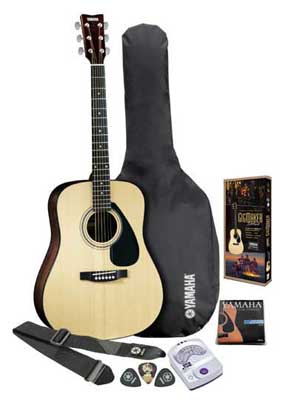guitar: (31, 13, 164, 339)
